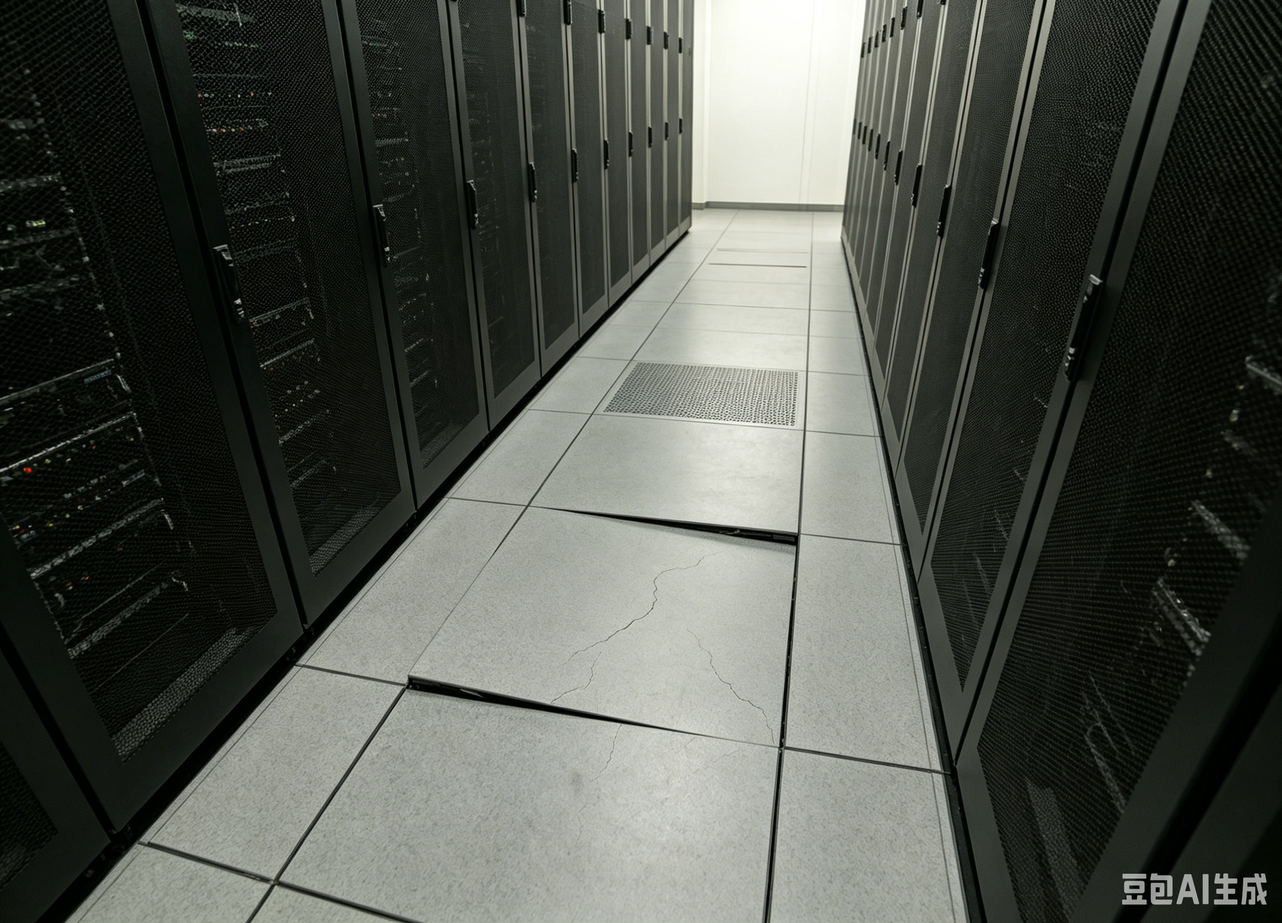floor_defect: (391, 645, 807, 752), (525, 498, 811, 552), (599, 548, 706, 652)
